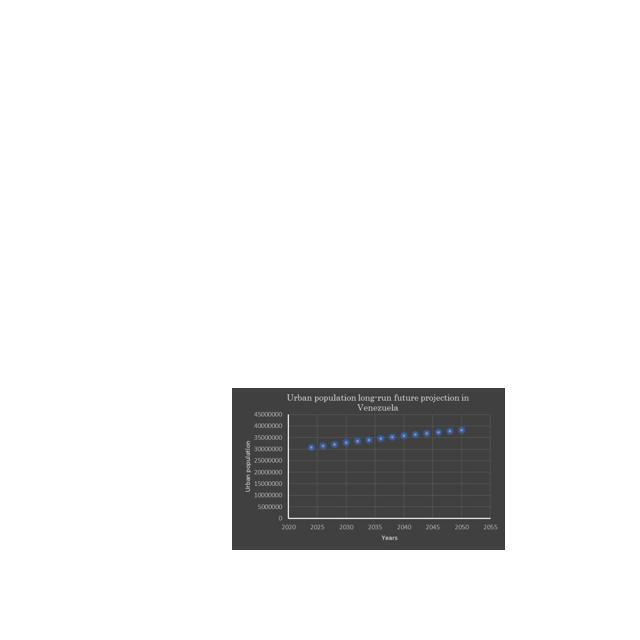Graph: (232, 388, 505, 550)
